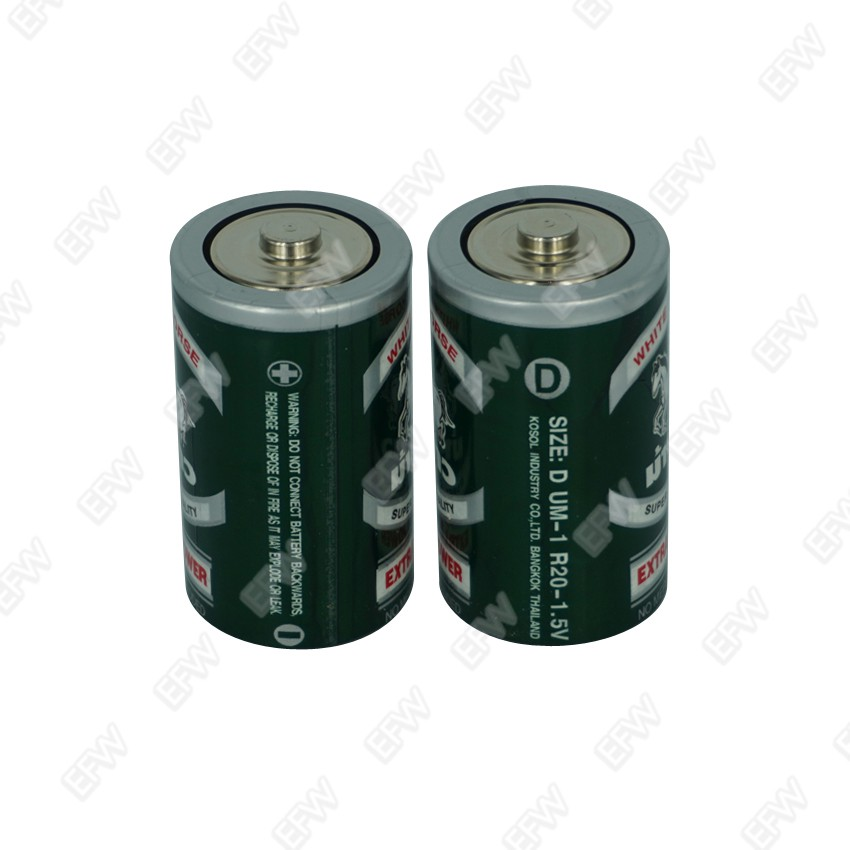Battery: (168, 188, 419, 652), (426, 182, 674, 649)
